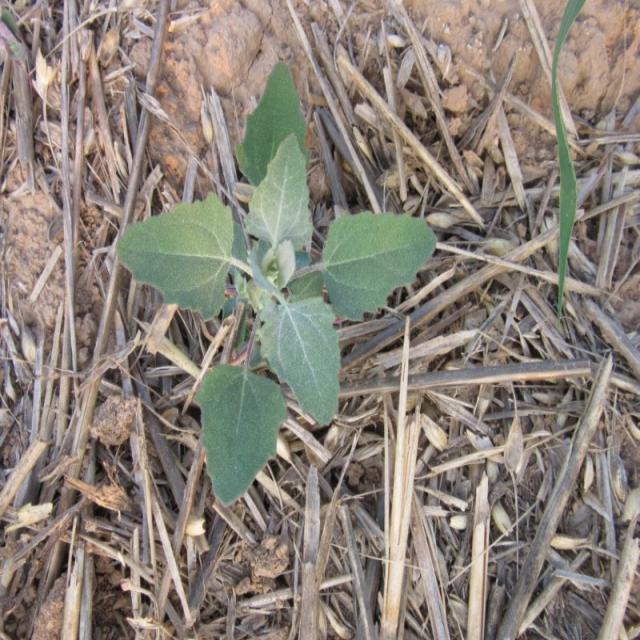ca: (116, 65, 436, 508)
